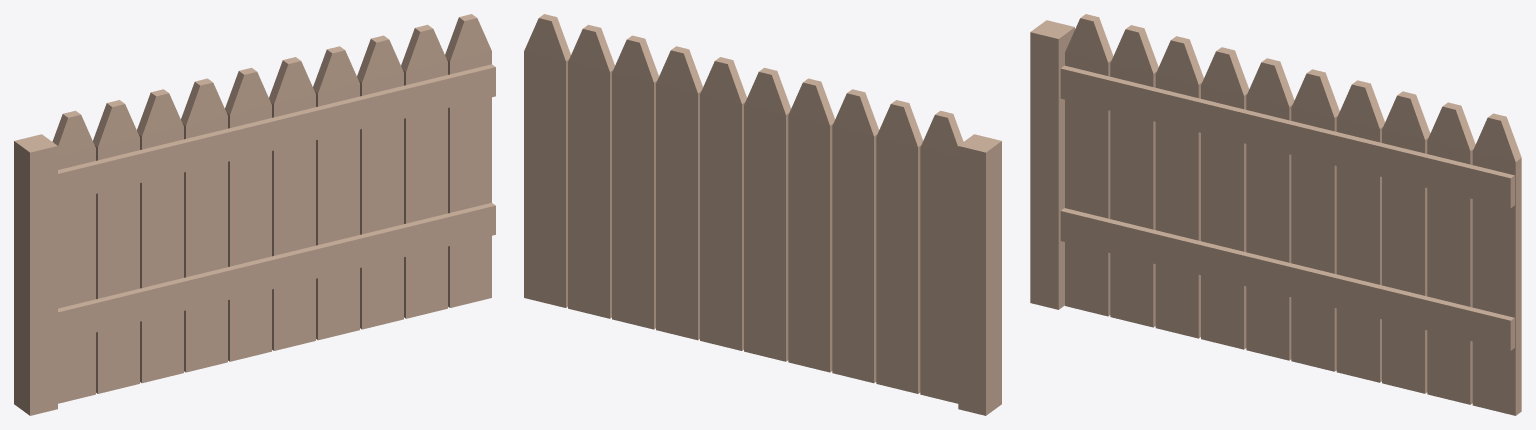
Rendered from FenceShort.fbx.
3 renders of one model, left to right at view 1: azimuth 30°, elevation 25°; view 2: azimuth 150°, elevation 25°; view 3: azimuth 330°, elevation 25°, orthographic. The views are drawn at different scales.
Parts seen in each view (by area): view 1: FenceShort; view 2: FenceShort; view 3: FenceShort.
Boxes of the visible parts, x1,y1,x2,y2 form: FenceShort: [14, 14, 495, 415]; FenceShort: [524, 14, 1001, 415]; FenceShort: [1030, 14, 1521, 415].
Bounding box in the file's own units: 216 × 125 × 12.82.
